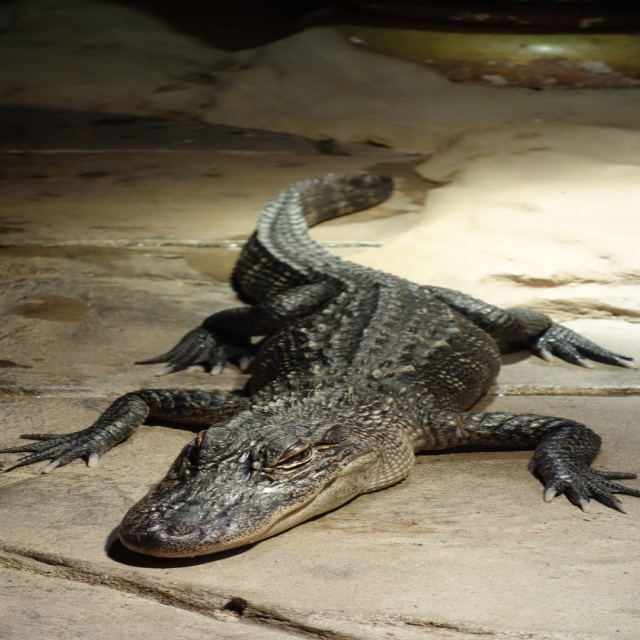Crocodile: (0, 168, 639, 564)
